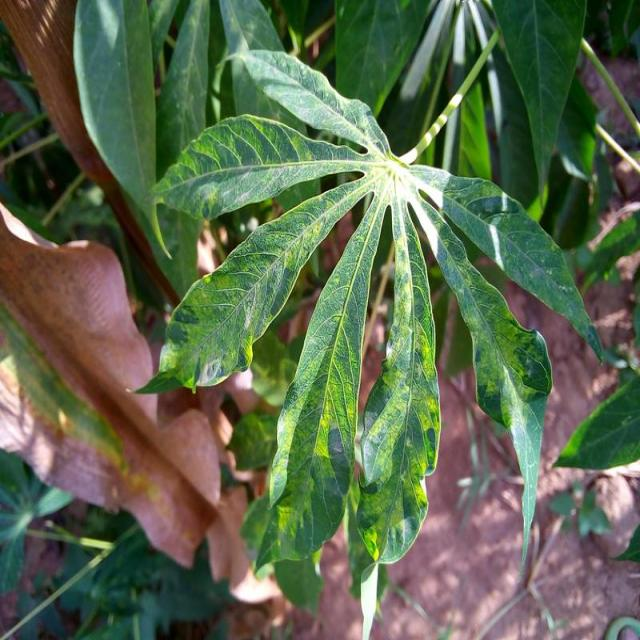cassava leaf: (135, 44, 603, 586)
